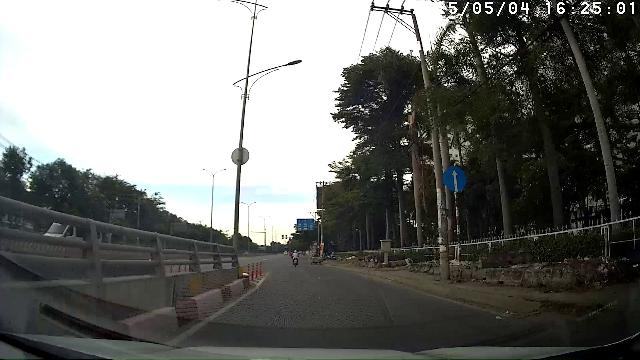301a-cac-xe-chi-duoc-di-thang: (441, 165, 469, 191)
